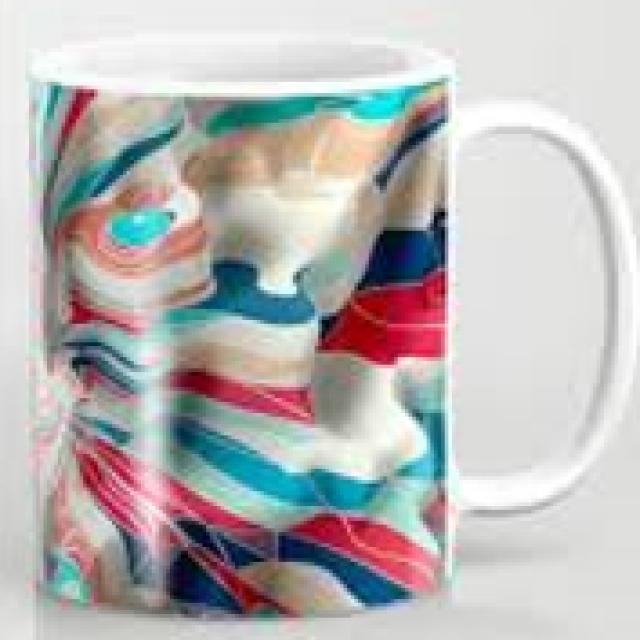taza: (28, 32, 625, 620)
